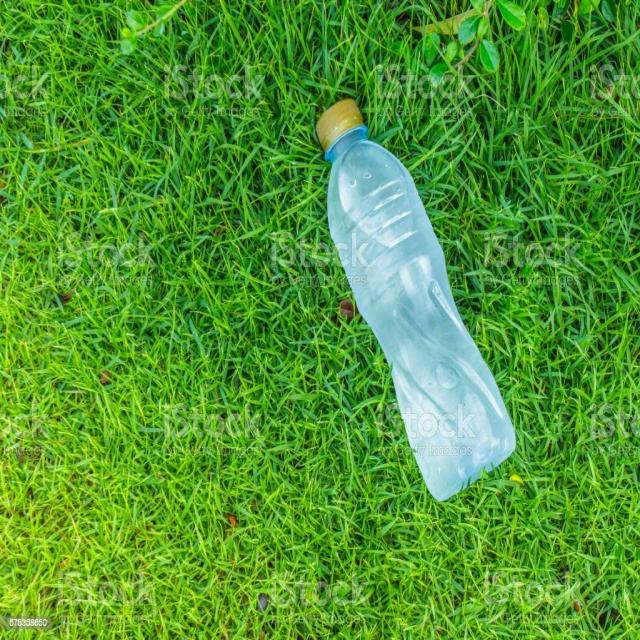bottle: (303, 99, 514, 516)
